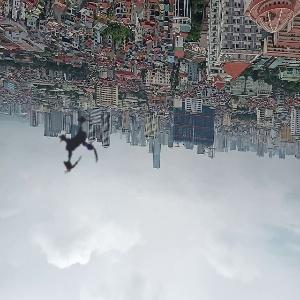drone: (22, 87, 135, 200)
